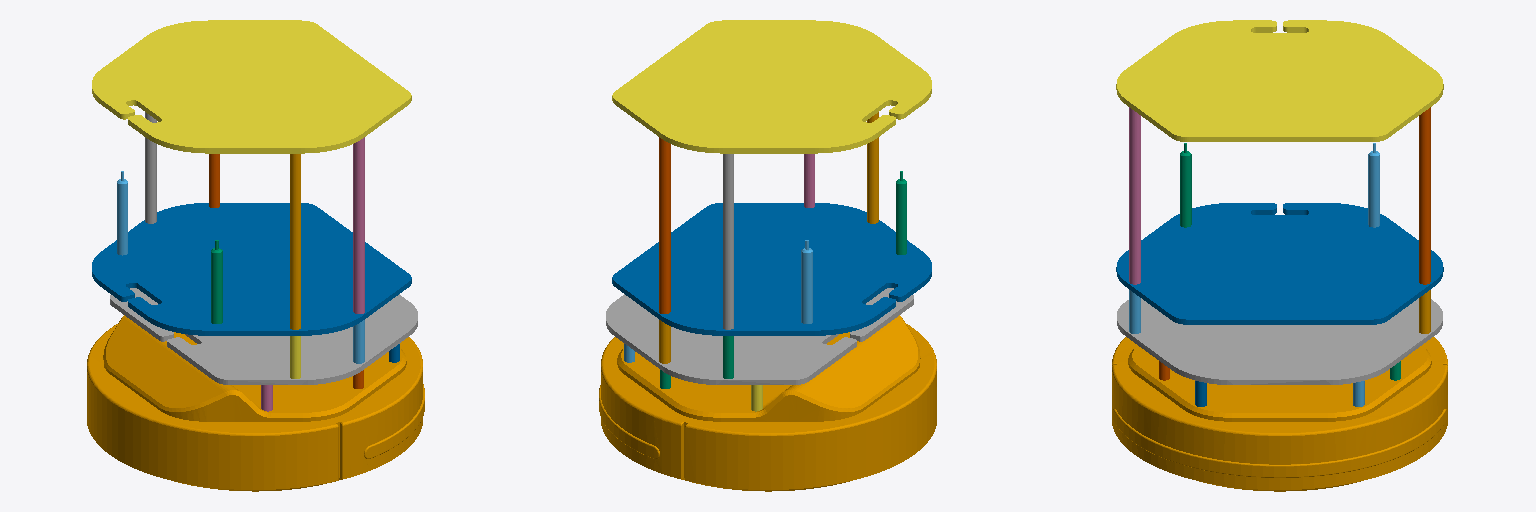
--- Render facts (derived) ---
Views: 3 orthographic renders of the robot side by side, from view 1: azimuth 30°, elevation 25°; view 2: azimuth 150°, elevation 25°; view 3: azimuth 270°, elevation 25°.
Model turtlebot with 34 links and 33 joints (2 continuous, 31 fixed), rooted at base_link, posed every joint at zero.
Links seen in each view (by area): view 1: base_link, plate_top_link, plate_middle_link, plate_bottom_link, pole_top_1_link, pole_top_3_link, pole_top_2_link, pole_kinect_1_link, pole_kinect_0_link, pole_top_0_link; view 2: base_link, plate_top_link, plate_middle_link, plate_bottom_link, pole_top_0_link, pole_top_2_link, pole_top_3_link, pole_kinect_0_link, pole_kinect_1_link, pole_top_1_link; view 3: base_link, plate_top_link, plate_middle_link, plate_bottom_link, pole_top_0_link, pole_top_1_link, pole_kinect_0_link, pole_kinect_1_link.
Link boxes in pixels (x1,y1,x2,y2): base_link: (87,315,424,491); plate_top_link: (92,20,411,153); plate_middle_link: (92,203,411,335); plate_bottom_link: (110,288,417,384); pole_top_1_link: (353,137,364,313); pole_top_3_link: (290,154,300,329); pole_top_2_link: (145,112,156,223); pole_kinect_1_link: (211,240,222,323); pole_kinect_0_link: (117,171,127,255); pole_top_0_link: (209,154,219,207); base_link: (599,315,936,491); plate_top_link: (612,20,931,153); plate_middle_link: (612,203,931,335); plate_bottom_link: (606,288,913,384); pole_top_0_link: (659,137,670,313); pole_top_2_link: (723,154,733,329); pole_top_3_link: (867,112,878,223); pole_kinect_0_link: (801,240,812,323); pole_kinect_1_link: (896,171,906,254); pole_top_1_link: (804,154,814,207); base_link: (1112,337,1447,491); plate_top_link: (1116,20,1443,141); plate_middle_link: (1116,203,1443,324); plate_bottom_link: (1117,298,1442,384); pole_top_0_link: (1419,107,1430,284); pole_top_1_link: (1129,107,1140,284); pole_kinect_0_link: (1368,143,1379,227); pole_kinect_1_link: (1180,143,1191,227).
Size in the robot's own frame: 0.3518 by 0.35 by 0.4098 metres.
Meshes: 10 distinct files referenced, 22 mesh visuals loaded (9 Collada DAE); not drawn: 1 (reference not matched to a file when rendering).

robot.urdf — turtlebot:
<?xml version="1.0" ?>
<!-- =================================================================================== -->
<!-- |    This document was autogenerated by xacro from robots/kobuki_hexagons_kinect.urdf.xacro | -->
<!-- |    EDITING THIS FILE BY HAND IS NOT RECOMMENDED                                 | -->
<!-- =================================================================================== -->
<!--
    - Base      : kobuki
    - Stacks    : hexagons
    - 3d Sensor : kinect
-->
<robot name="turtlebot" xmlns:controller="http://playerstage.sourceforge.net/gazebo/xmlschema/#controller" xmlns:interface="http://playerstage.sourceforge.net/gazebo/xmlschema/#interface" xmlns:sensor="http://playerstage.sourceforge.net/gazebo/xmlschema/#sensor" xmlns:xacro="http://ros.org/wiki/xacro">

  <link name="base_link">
    <visual>
      <geometry>
        <!-- new mesh -->
        <mesh filename="turtlebot/kobuki_description/meshes/main_body.dae"/>
      </geometry>
      <origin rpy="0 0 0" xyz="0.001 0 0.05199"/>
    </visual>
    <collision>
      <geometry>
        <cylinder length="0.10938" radius="0.176"/>
      </geometry>
      <origin rpy="0 0 0" xyz="0.0 0 0.05949"/>
    </collision>
    <inertial>
      <mass value="2.4"/>
      <!-- 2.4/2.6 kg for small/big battery pack -->
      <origin xyz="0 0 0"/>
      <inertia ixx="0.0001" ixy="0.0" ixz="0.0" iyy="0.0001" iyz="0.0" izz="0.0001"/>
    </inertial>
  </link>
  <joint name="wheel_left_joint" type="continuous">
    <parent link="base_link"/>
    <child link="wheel_left_link"/>
    <origin rpy="-1.57079632679 0 0" xyz="0.00 0.115 0.0250"/>
    <axis xyz="0 0 1"/>
  </joint>
  <link name="wheel_left_link">
    <visual>
      <geometry>
        <mesh filename="turtlebot/kobuki_description/meshes/wheel.dae"/>
      </geometry>
      <origin rpy="0 0 0" xyz="0 0 0"/>
    </visual>
    <collision>
      <geometry>
        <cylinder length="0.0206" radius="0.0352"/>
      </geometry>
      <origin rpy="0 0 0" xyz="0 0 0"/>
    </collision>
     <inertial>
      <mass value="0.1"/>
      <origin xyz="0 0 0"/>
      <inertia ixx="0.01" ixy="0.0" ixz="0.0" iyy="0.01" iyz="0.0" izz="0.01"/>
    </inertial>
     <contact>
      <lateral_friction value="1.0"/>
      <rolling_friction value="0.0"/>
      <stiffness value="30000"/>
      <damping value="1000"/>
    </contact>
  </link>
  <joint name="wheel_right_joint" type="continuous">
    <parent link="base_link"/>
    <child link="wheel_right_link"/>
    <origin rpy="-1.57079632679 0 0" xyz="0.00 -0.115 0.0250"/>
    <axis xyz="0 0 1"/>
  </joint>
  <link name="wheel_right_link">
    <visual>
      <geometry>
        <mesh filename="turtlebot/kobuki_description/meshes/wheel.dae"/>
      </geometry>
      <origin rpy="0 0 0" xyz="0 0 0"/>
    </visual>
    <collision>
      <geometry>
        <cylinder length="0.0206" radius="0.0350"/>
      </geometry>
      <origin rpy="0 0 0" xyz="0 0 0"/>
    </collision>
   <inertial>
      <mass value="0.1"/>
      <origin xyz="0 0 0"/>
      <inertia ixx="0.01" ixy="0.0" ixz="0.0" iyy="0.01" iyz="0.0" izz="0.01"/>
    </inertial>
   	<contact>
      <lateral_friction value="1.0"/>
      <rolling_friction value="0.0"/>
      <stiffness value="30000"/>
      <damping value="10000"/>
    </contact>

  </link>
  <joint name="caster_front_joint" type="fixed">
    <parent link="base_link"/>
    <child link="caster_front_link"/>
    <origin rpy="-1.57079632679 0 0" xyz="0.115 0.0 0.007"/>
  </joint>
  <link name="caster_front_link">
    <collision>
      <geometry>
        <cylinder length="0.0176" radius="0.017"/>
      </geometry>
      <origin rpy="0 0 0" xyz="0 0 0"/>
    </collision>
    <inertial>
      <mass value="0.01"/>
      <origin xyz="0 0 0"/>
      <inertia ixx="0.001" ixy="0.0" ixz="0.0" iyy="0.001" iyz="0.0" izz="0.001"/>
    </inertial>
    <contact>
      <lateral_friction value="0.0"/>
      <rolling_friction value="0.0"/>
      <stiffness value="30000"/>
      <damping value="10000"/>
    </contact>
  </link>
  <joint name="caster_back_joint" type="fixed">
    <parent link="base_link"/>
    <child link="caster_back_link"/>
    <origin rpy="-1.57079632679 0 0" xyz="-0.135 0.0 0.009"/>
  </joint>
  <link name="caster_back_link">
    <collision>
      <geometry>
        <cylinder length="0.0176" radius="0.017"/>
      </geometry>
      <origin rpy="0 0 0" xyz="0 0 0"/>
    </collision>
    <inertial>
      <mass value="0.01"/>
      <origin xyz="0 0 0"/>
      <inertia ixx="0.001" ixy="0.0" ixz="0.0" iyy="0.001" iyz="0.0" izz="0.001"/>
    </inertial>
    <contact>
      <lateral_friction value="0.0"/>
      <rolling_friction value="0.0"/>
      <stiffness value="30000"/>
      <damping value="1000"/>
    </contact>
  </link>
  <joint name="gyro_joint" type="fixed">
    <axis xyz="0 1 0"/>
    <origin rpy="0 0 0" xyz="0.056 0.062 0.0202"/>
    <parent link="base_link"/>
    <child link="gyro_link"/>
  </joint>
  <link name="gyro_link">
    <inertial>
      <mass value="0.001"/>
      <origin rpy="0 0 0" xyz="0 0 0"/>
      <inertia ixx="0.0001" ixy="0" ixz="0" iyy="0.000001" iyz="0" izz="0.0001"/>
    </inertial>
  </link>
  <joint name="cliff_sensor_left_joint" type="fixed">
    <origin rpy="0 1.57079632679 0" xyz="0.08734 0.13601 0.0214"/>
    <parent link="base_link"/>
    <child link="cliff_sensor_left_link"/>
  </joint>
  <link name="cliff_sensor_left_link">
    <inertial>
      <mass value="0.0001"/>
      <origin xyz="0 0 0"/>
      <inertia ixx="0.0001" ixy="0.0" ixz="0.0" iyy="0.0001" iyz="0.0" izz="0.0001"/>
    </inertial>
  </link>
  <joint name="cliff_sensor_right_joint" type="fixed">
    <origin rpy="0 1.57079632679 0" xyz="0.085 -0.13601 0.0214"/>
    <parent link="base_link"/>
    <child link="cliff_sensor_right_link"/>
  </joint>
  <link name="cliff_sensor_right_link">
    <inertial>
      <mass value="0.0001"/>
      <origin xyz="0 0 0"/>
      <inertia ixx="0.0001" ixy="0.0" ixz="0.0" iyy="0.0001" iyz="0.0" izz="0.0001"/>
    </inertial>
  </link>
  <joint name="cliff_sensor_front_joint" type="fixed">
    <origin rpy="0 1.57079632679 0" xyz="0.156 0.00 0.0214"/>
    <parent link="base_link"/>
    <child link="cliff_sensor_front_link"/>
  </joint>
  <link name="cliff_sensor_front_link">
    <inertial>
      <mass value="0.0001"/>
      <origin xyz="0 0 0"/>
      <inertia ixx="0.0001" ixy="0.0" ixz="0.0" iyy="0.0001" iyz="0.0" izz="0.0001"/>
    </inertial>
  </link>
  <gazebo>
    <controller:gazebo_ros_kobuki name="kobuki_controller" plugin="libgazebo_ros_kobuki.so">
      <left_wheel_joint_name>wheel_left_joint</left_wheel_joint_name>
      <right_wheel_joint_name>wheel_right_joint</right_wheel_joint_name>
      <wheel_separation>.230</wheel_separation>
      <wheel_diameter>0.070</wheel_diameter>
      <torque>1.0</torque>
      <velocity_command_timeout>0.6</velocity_command_timeout>
      <cliff_sensor_left_name>cliff_sensor_left</cliff_sensor_left_name>
      <cliff_sensor_front_name>cliff_sensor_front</cliff_sensor_front_name>
      <cliff_sensor_right_name>cliff_sensor_right</cliff_sensor_right_name>
      <cliff_detection_threshold>0.04</cliff_detection_threshold>
      <bumper_name>bumpers</bumper_name>
      <base_collision_model_link>base_link</base_collision_model_link>
    </controller:gazebo_ros_kobuki>
  </gazebo>
  <gazebo reference="wheel_left_link">
    <mu1 value="10"/>
    <mu2 value="10"/>
    <kp value="100000000.0"/>
    <kd value="10000.0"/>
  </gazebo>
  <gazebo reference="wheel_right_link">
    <mu1 value="10"/>
    <mu2 value="10"/>
    <kp value="100000000.0"/>
    <kd value="10000.0"/>
  </gazebo>
  <gazebo reference="caster_front_link">
    <mu1 value="0"/>
    <mu2 value="0"/>
    <kp value="100000000.0"/>
    <kd value="10000.0"/>
  </gazebo>
  <gazebo reference="caster_back_link">
    <mu1 value="0"/>
    <mu2 value="0"/>
    <kp value="100000000.0"/>
    <kd value="10000.0"/>
  </gazebo>
  <gazebo reference="base_link">
    <sensor:contact name="bumpers">
      <geom>base_footprint_geom_base_link</geom>
      <topic>bumpers</topic>
      <alwaysOn>true</alwaysOn>
      <updateRate>50</updateRate>
    </sensor:contact>
  </gazebo>
  <gazebo reference="cliff_sensor_left_link">
    <sensor:ray name="cliff_sensor_left">
      <alwaysOn>true</alwaysOn>
      <updateRate>50</updateRate>
      <rayCount>50</rayCount>
      <rangeCount>1</rangeCount>
      <resRange>1.0</resRange>
      <minAngle>-0.04361</minAngle>
      <maxAngle>0.04361</maxAngle>
      <minRange>0.01</minRange>
      <maxRange>0.15</maxRange>
      <displayRays>true</displayRays>
    </sensor:ray>
  </gazebo>
  <gazebo reference="cliff_sensor_right_link">
    <sensor:ray name="cliff_sensor_right">
      <alwaysOn>true</alwaysOn>
      <updateRate>50</updateRate>
      <rayCount>50</rayCount>
      <rangeCount>1</rangeCount>
      <resRange>1.0</resRange>
      <minAngle>-2.5</minAngle>
      <maxAngle>2.5</maxAngle>
      <minRange>0.01</minRange>
      <maxRange>0.15</maxRange>
      <displayRays>true</displayRays>
    </sensor:ray>
  </gazebo>
  <gazebo reference="cliff_sensor_front_link">
    <sensor:ray name="cliff_sensor_front">
      <alwaysOn>true</alwaysOn>
      <updateRate>50</updateRate>
      <rayCount>50</rayCount>
      <rangeCount>1</rangeCount>
      <resRange>1.0</resRange>
      <minAngle>-2.5</minAngle>
      <maxAngle>2.5</maxAngle>
      <minRange>0.01</minRange>
      <maxRange>0.15</maxRange>
      <displayRays>true</displayRays>
    </sensor:ray>
  </gazebo>
  <gazebo>
    <controller:gazebo_ros_imu name="imu_controller" plugin="libgazebo_ros_imu.so">
      <alwaysOn>true</alwaysOn>
      <updateRate>50</updateRate>
      <bodyName>gyro_link</bodyName>
      <topicName>/mobile_base/sensors/imu_data</topicName>
      <gaussianNoise>2.89e-06</gaussianNoise>
      <xyzOffsets>0 0 0</xyzOffsets>
      <rpyOffsets>0 0 0</rpyOffsets>
      <interface:position name="gyro_link"/>
    </controller:gazebo_ros_imu>
  </gazebo>
  <joint name="pole_bottom_0_joint" type="fixed">
    <origin rpy="0 0 0" xyz="0.12 0.082 0.1028"/>
    <parent link="base_link"/>
    <child link="pole_bottom_0_link"/>
  </joint>
  <link name="pole_bottom_0_link">
    <visual>
      <origin rpy="0 0 0" xyz="0 0 0"/>
      <geometry>
        <mesh filename="turtlebot/turtlebot_description/meshes/stacks/hexagons/pole_bottom.dae"/>
      </geometry>
    </visual>
    <collision>
      <origin rpy="0 0 0" xyz="0 0 0"/>
      <geometry>
        <cylinder length="0.0492" radius=".006"/>
      </geometry>
    </collision>
    <inertial>
      <mass value="0.001"/>
      <origin rpy="0 0 0" xyz="0 0 0"/>
      <inertia ixx="0.0001" ixy="0.0" ixz="0.0" iyy="0.0001" iyz="0.0" izz="0.0001"/>
    </inertial>
  </link>
  <joint name="pole_bottom_1_joint" type="fixed">
    <origin rpy="0 0 0" xyz="0.055 0.12 0.1028"/>
    <parent link="base_link"/>
    <child link="pole_bottom_1_link"/>
  </joint>
  <link name="pole_bottom_1_link">
    <visual>
      <origin rpy="0 0 0" xyz="0 0 0"/>
      <geometry>
        <mesh filename="turtlebot/turtlebot_description/meshes/stacks/hexagons/pole_bottom.dae"/>
      </geometry>
    </visual>
    <collision>
      <origin rpy="0 0 0" xyz="0 0 0"/>
      <geometry>
        <cylinder length="0.0492" radius=".006"/>
      </geometry>
    </collision>
    <inertial>
      <mass value="0.001"/>
      <origin rpy="0 0 0" xyz="0 0 0"/>
      <inertia ixx="0.0001" ixy="0.0" ixz="0.0" iyy="0.0001" iyz="0.0" izz="0.0001"/>
    </inertial>
  </link>
  <joint name="pole_bottom_2_joint" type="fixed">
    <origin rpy="0 0 0" xyz="-0.055 0.12 0.1028"/>
    <parent link="base_link"/>
    <child link="pole_bottom_2_link"/>
  </joint>
  <link name="pole_bottom_2_link">
    <visual>
      <origin rpy="0 0 0" xyz="0 0 0"/>
      <geometry>
        <mesh filename="turtlebot/turtlebot_description/meshes/stacks/hexagons/pole_bottom.dae"/>
      </geometry>
    </visual>
    <collision>
      <origin rpy="0 0 0" xyz="0 0 0"/>
      <geometry>
        <cylinder length="0.0492" radius=".006"/>
      </geometry>
    </collision>
    <inertial>
      <mass value="0.001"/>
      <origin rpy="0 0 0" xyz="0 0 0"/>
      <inertia ixx="0.0001" ixy="0.0" ixz="0.0" iyy="0.0001" iyz="0.0" izz="0.0001"/>
    </inertial>
  </link>
  <joint name="pole_bottom_3_joint" type="fixed">
    <origin rpy="0 0 0" xyz="0.12 -0.082 0.1028"/>
    <parent link="base_link"/>
    <child link="pole_bottom_3_link"/>
  </joint>
  <link name="pole_bottom_3_link">
    <visual>
      <origin rpy="0 0 0" xyz="0 0 0"/>
      <geometry>
        <mesh filename="turtlebot/turtlebot_description/meshes/stacks/hexagons/pole_bottom.dae"/>
      </geometry>
    </visual>
    <collision>
      <origin rpy="0 0 0" xyz="0 0 0"/>
      <geometry>
        <cylinder length="0.0492" radius=".006"/>
      </geometry>
    </collision>
    <inertial>
      <mass value="0.001"/>
      <origin rpy="0 0 0" xyz="0 0 0"/>
      <inertia ixx="0.0001" ixy="0.0" ixz="0.0" iyy="0.0001" iyz="0.0" izz="0.0001"/>
    </inertial>
  </link>
  <joint name="pole_bottom_4_joint" type="fixed">
    <origin rpy="0 0 0" xyz="0.055 -0.12 0.1028"/>
    <parent link="base_link"/>
    <child link="pole_bottom_4_link"/>
  </joint>
  <link name="pole_bottom_4_link">
    <visual>
      <origin rpy="0 0 0" xyz="0 0 0"/>
      <geometry>
        <mesh filename="turtlebot/turtlebot_description/meshes/stacks/hexagons/pole_bottom.dae"/>
      </geometry>
    </visual>
    <collision>
      <origin rpy="0 0 0" xyz="0 0 0"/>
      <geometry>
        <cylinder length="0.0492" radius=".006"/>
      </geometry>
    </collision>
    <inertial>
      <mass value="0.001"/>
      <origin rpy="0 0 0" xyz="0 0 0"/>
      <inertia ixx="0.0001" ixy="0.0" ixz="0.0" iyy="0.0001" iyz="0.0" izz="0.0001"/>
    </inertial>
  </link>
  <joint name="pole_bottom_5_joint" type="fixed">
    <origin rpy="0 0 0" xyz="-0.055 -0.12 0.1028"/>
    <parent link="base_link"/>
    <child link="pole_bottom_5_link"/>
  </joint>
  <link name="pole_bottom_5_link">
    <visual>
      <origin rpy="0 0 0" xyz="0 0 0"/>
      <geometry>
        <mesh filename="turtlebot/turtlebot_description/meshes/stacks/hexagons/pole_bottom.dae"/>
      </geometry>
    </visual>
    <collision>
      <origin rpy="0 0 0" xyz="0 0 0"/>
      <geometry>
        <cylinder length="0.0492" radius=".006"/>
      </geometry>
    </collision>
    <inertial>
      <mass value="0.001"/>
      <origin rpy="0 0 0" xyz="0 0 0"/>
      <inertia ixx="0.0001" ixy="0.0" ixz="0.0" iyy="0.0001" iyz="0.0" izz="0.0001"/>
    </inertial>
  </link>
  <joint name="plate_bottom_joint" type="fixed">
    <origin rpy="0 0 0" xyz="0.02364 0.0 0.1306"/>
    <parent link="base_link"/>
    <child link="plate_bottom_link"/>
  </joint>
  <link name="plate_bottom_link">
    <visual>
      <origin rpy="0 0 0" xyz="0 0 0"/>
      <geometry>
        <mesh filename="turtlebot/turtlebot_description/meshes/stacks/hexagons/plate_bottom.dae"/>
      </geometry>
    </visual>
    <collision>
      <origin rpy="0 0 0" xyz="0 0 0"/>
      <geometry>
        <box size="0.26727 0.340 0.006"/>
      </geometry>
    </collision>
    <inertial>
      <mass value="0.01"/>
      <origin xyz="0 0 0"/>
      <inertia ixx="0.01" ixy="0.0" ixz="0.0" iyy="0.01" iyz="0.0" izz="0.01"/>
    </inertial>
  </link>
  <joint name="pole_middle_0_joint" type="fixed">
    <origin rpy="0 0 0" xyz="0.0381 0.1505 0.164"/>
    <parent link="base_link"/>
    <child link="pole_middle_0_link"/>
  </joint>
  <link name="pole_middle_0_link">
    <visual>
      <origin rpy="0 3.14159265359 0" xyz="0 0 0"/>
      <geometry>
        <mesh filename="turtlebot/turtlebot_description/meshes/stacks/hexagons/pole_middle.dae"/>
      </geometry>
    </visual>
    <collision>
      <origin rpy="0 0 0" xyz="0 0 0"/>
      <geometry>
        <cylinder length="0.0608" radius=".006"/>
      </geometry>
    </collision>
    <inertial>
      <mass value="0.001"/>
      <origin xyz="0 0 0"/>
      <inertia ixx="0.0001" ixy="0.0" ixz="0.0" iyy="0.0001" iyz="0.0" izz="0.0001"/>
    </inertial>
  </link>
  <joint name="pole_middle_1_joint" type="fixed">
    <origin rpy="0 0 0" xyz="0.0381 -0.1505 0.164"/>
    <parent link="base_link"/>
    <child link="pole_middle_1_link"/>
  </joint>
  <link name="pole_middle_1_link">
    <visual>
      <origin rpy="0 3.14159265359 0" xyz="0 0 0"/>
      <geometry>
        <mesh filename="turtlebot/turtlebot_description/meshes/stacks/hexagons/pole_middle.dae"/>
      </geometry>
    </visual>
    <collision>
      <origin rpy="0 0 0" xyz="0 0 0"/>
      <geometry>
        <cylinder length="0.0608" radius=".006"/>
      </geometry>
    </collision>
    <inertial>
      <mass value="0.001"/>
      <origin xyz="0 0 0"/>
      <inertia ixx="0.0001" ixy="0.0" ixz="0.0" iyy="0.0001" iyz="0.0" izz="0.0001"/>
    </inertial>
  </link>
  <joint name="pole_middle_2_joint" type="fixed">
    <origin rpy="0 0 0" xyz="-0.0381 0.1505 0.164"/>
    <parent link="base_link"/>
    <child link="pole_middle_2_link"/>
  </joint>
  <link name="pole_middle_2_link">
    <visual>
      <origin rpy="0 3.14159265359 0" xyz="0 0 0"/>
      <geometry>
        <mesh filename="turtlebot/turtlebot_description/meshes/stacks/hexagons/pole_middle.dae"/>
      </geometry>
    </visual>
    <collision>
      <origin rpy="0 0 0" xyz="0 0 0"/>
      <geometry>
        <cylinder length="0.0608" radius=".006"/>
      </geometry>
    </collision>
    <inertial>
      <mass value="0.001"/>
      <origin xyz="0 0 0"/>
      <inertia ixx="0.0001" ixy="0.0" ixz="0.0" iyy="0.0001" iyz="0.0" izz="0.0001"/>
    </inertial>
  </link>
  <joint name="pole_middle_3_joint" type="fixed">
    <origin rpy="0 0 0" xyz="-0.0381 -0.1505 0.164"/>
    <parent link="base_link"/>
    <child link="pole_middle_3_link"/>
  </joint>
  <link name="pole_middle_3_link">
    <visual>
      <origin rpy="0 3.14159265359 0" xyz="0 0 0"/>
      <geometry>
        <mesh filename="turtlebot/turtlebot_description/meshes/stacks/hexagons/pole_middle.dae"/>
      </geometry>
    </visual>
    <collision>
      <origin rpy="0 0 0" xyz="0 0 0"/>
      <geometry>
        <cylinder length="0.0608" radius=".006"/>
      </geometry>
    </collision>
    <inertial>
      <mass value="0.001"/>
      <origin xyz="0 0 0"/>
      <inertia ixx="0.0001" ixy="0.0" ixz="0.0" iyy="0.0001" iyz="0.0" izz="0.0001"/>
    </inertial>
  </link>
  <joint name="plate_middle_joint" type="fixed">
    <origin rpy="0 0 0" xyz="-0.01364 0.0 0.1874"/>
    <parent link="base_link"/>
    <child link="plate_middle_link"/>
  </joint>
  <link name="plate_middle_link">
    <visual>
      <origin rpy="0 0 0" xyz="0 0 0"/>
      <geometry>
        <mesh filename="turtlebot/turtlebot_description/meshes/stacks/hexagons/plate_middle.dae"/>
      </geometry>
    </visual>
    <collision>
      <origin rpy="0 0 0" xyz="0.0 0.0 0.0"/>
      <geometry>
        <box size="0.28727 0.340 0.006"/>
      </geometry>
    </collision>
    <inertial>
      <mass value="0.01"/>
      <origin xyz="0 0 0"/>
      <inertia ixx="0.01" ixy="0.0" ixz="0.0" iyy="0.01" iyz="0.0" izz="0.01"/>
    </inertial>
  </link>
  <joint name="pole_top_0_joint" type="fixed">
    <origin rpy="0 0 0" xyz="0.0381 0.1505 0.292"/>
    <parent link="base_link"/>
    <child link="pole_top_0_link"/>
  </joint>
  <link name="pole_top_0_link">
    <visual>
      <origin rpy="0 0 0" xyz=" 0 0 0"/>
      <geometry>
        <mesh filename="turtlebot/turtlebot_description/meshes/stacks/hexagons/pole_top.dae"/>
      </geometry>
    </visual>
    <collision>
      <origin rpy="0 0 0" xyz="0 0 0"/>
      <geometry>
        <cylinder length="0.2032" radius=".006"/>
      </geometry>
    </collision>
    <inertial>
      <mass value="0.001"/>
      <origin xyz="0 0 0"/>
      <inertia ixx="0.0001" ixy="0.0" ixz="0.0" iyy="0.0001" iyz="0.0" izz="0.0001"/>
    </inertial>
  </link>
  <joint name="pole_top_1_joint" type="fixed">
    <origin rpy="0 0 0" xyz="0.0381 -0.1505 0.292"/>
    <parent link="base_link"/>
    <child link="pole_top_1_link"/>
  </joint>
  <link name="pole_top_1_link">
    <visual>
      <origin rpy="0 0 0" xyz=" 0 0 0"/>
      <geometry>
        <mesh filename="turtlebot/turtlebot_description/meshes/stacks/hexagons/pole_top.dae"/>
      </geometry>
    </visual>
    <collision>
      <origin rpy="0 0 0" xyz="0 0 0"/>
      <geometry>
        <cylinder length="0.2032" radius=".006"/>
      </geometry>
    </collision>
    <inertial>
      <mass value="0.001"/>
      <origin xyz="0 0 0"/>
      <inertia ixx="0.0001" ixy="0.0" ixz="0.0" iyy="0.0001" iyz="0.0" izz="0.0001"/>
    </inertial>
  </link>
  <joint name="pole_top_2_joint" type="fixed">
    <origin rpy="0 0 0" xyz="-0.0381 0.1505 0.292"/>
    <parent link="base_link"/>
    <child link="pole_top_2_link"/>
  </joint>
  <link name="pole_top_2_link">
    <visual>
      <origin rpy="0 0 0" xyz=" 0 0 0"/>
      <geometry>
        <mesh filename="turtlebot/turtlebot_description/meshes/stacks/hexagons/pole_top.dae"/>
      </geometry>
    </visual>
    <collision>
      <origin rpy="0 0 0" xyz="0 0 0"/>
      <geometry>
        <cylinder length="0.2032" radius=".006"/>
      </geometry>
    </collision>
    <inertial>
      <mass value="0.001"/>
      <origin xyz="0 0 0"/>
      <inertia ixx="0.0001" ixy="0.0" ixz="0.0" iyy="0.0001" iyz="0.0" izz="0.0001"/>
    </inertial>
  </link>
  <joint name="pole_top_3_joint" type="fixed">
    <origin rpy="0 0 0" xyz="-0.0381 -0.1505 0.292"/>
    <parent link="base_link"/>
    <child link="pole_top_3_link"/>
  </joint>
  <link name="pole_top_3_link">
    <visual>
      <origin rpy="0 0 0" xyz=" 0 0 0"/>
      <geometry>
        <mesh filename="turtlebot/turtlebot_description/meshes/stacks/hexagons/pole_top.dae"/>
      </geometry>
    </visual>
    <collision>
      <origin rpy="0 0 0" xyz="0 0 0"/>
      <geometry>
        <cylinder length="0.2032" radius=".006"/>
      </geometry>
    </collision>
    <inertial>
      <mass value="0.001"/>
      <origin xyz="0 0 0"/>
      <inertia ixx="0.0001" ixy="0.0" ixz="0.0" iyy="0.0001" iyz="0.0" izz="0.0001"/>
    </inertial>
  </link>
  <joint name="pole_kinect_0_joint" type="fixed">
    <origin rpy="0 0 0" xyz="-0.1024 0.098 0.2372"/>
    <parent link="base_link"/>
    <child link="pole_kinect_0_link"/>
  </joint>
  <link name="pole_kinect_0_link">
    <visual>
      <origin rpy="0 0 0" xyz="0 0 0"/>
      <!--         <origin xyz="0 0 0" rpy="${-M_PI/2} ${M_PI} 0"/> -->
      <geometry>
        <mesh filename="turtlebot/turtlebot_description/meshes/stacks/hexagons/pole_kinect.dae"/>
      </geometry>
    </visual>
    <collision>
      <origin rpy="0 0 0" xyz="0 0 0"/>
      <geometry>
        <cylinder length="0.0936" radius="0.006"/>
      </geometry>
    </collision>
    <inertial>
      <mass value="0.001"/>
      <origin xyz="0 0 0"/>
      <inertia ixx="0.0001" ixy="0.0" ixz="0.0" iyy="0.0001" iyz="0.0" izz="0.0001"/>
    </inertial>
  </link>
  <joint name="pole_kinect_1_joint" type="fixed">
    <origin rpy="0 0 0" xyz="-0.1024 -0.098 0.2372"/>
    <parent link="base_link"/>
    <child link="pole_kinect_1_link"/>
  </joint>
  <link name="pole_kinect_1_link">
    <visual>
      <origin rpy="0 0 0" xyz="0 0 0"/>
      <!--         <origin xyz="0 0 0" rpy="${-M_PI/2} ${M_PI} 0"/> -->
      <geometry>
        <mesh filename="turtlebot/turtlebot_description/meshes/stacks/hexagons/pole_kinect.dae"/>
      </geometry>
    </visual>
    <collision>
      <origin rpy="0 0 0" xyz="0 0 0"/>
      <geometry>
        <cylinder length="0.0936" radius="0.006"/>
      </geometry>
    </collision>
    <inertial>
      <mass value="0.001"/>
      <origin xyz="0 0 0"/>
      <inertia ixx="0.0001" ixy="0.0" ixz="0.0" iyy="0.0001" iyz="0.0" izz="0.0001"/>
    </inertial>
  </link>
  <joint name="plate_top_joint" type="fixed">
    <origin rpy="0 0 0" xyz="-0.01364 0.0  0.3966"/>
    <parent link="base_link"/>
    <child link="plate_top_link"/>
  </joint>
  <link name="plate_top_link">
    <visual>
      <origin rpy="0 0 0" xyz="0 0 0"/>
      <geometry>
        <mesh filename="turtlebot/turtlebot_description/meshes/stacks/hexagons/plate_top.dae"/>
      </geometry>
    </visual>
    <collision>
      <origin rpy="0 0 0" xyz="0 0 0"/>
      <geometry>
        <box size="0.28727 0.340 0.006"/>
      </geometry>
    </collision>
    <inertial>
      <mass value="0.01"/>
      <origin xyz="0 0 0"/>
      <inertia ixx="0.01" ixy="0.0" ixz="0.0" iyy="0.01" iyz="0.0" izz="0.01"/>
    </inertial>
  </link>
  <joint name="camera_rgb_joint" type="fixed">
    <origin rpy="0 0 0" xyz="-0.087 -0.0125 1.000"/>
    <parent link="base_link"/>
    <child link="camera_rgb_frame"/>
  </joint>
  <link name="camera_rgb_frame">
    <inertial>
      <mass value="0.001"/>
      <origin xyz="0 0 0"/>
      <inertia ixx="0.0001" ixy="0.0" ixz="0.0" iyy="0.0001" iyz="0.0" izz="0.0001"/>
    </inertial>
  </link>
  <joint name="camera_rgb_optical_joint" type="fixed">
    <origin rpy="-1.57079632679 0 -1.57079632679" xyz="0 0 0"/>
    <parent link="camera_rgb_frame"/>
    <child link="camera_rgb_optical_frame"/>
  </joint>
  <link name="camera_rgb_optical_frame">
    <inertial>
      <mass value="0.001"/>
      <origin xyz="0 0 0"/>
      <inertia ixx="0.0001" ixy="0.0" ixz="0.0" iyy="0.0001" iyz="0.0" izz="0.0001"/>
    </inertial>
  </link>
  <joint name="camera_joint" type="fixed">
    <origin rpy="0 0 0" xyz="-0.031 0.0125 -0.016"/>
    <parent link="camera_rgb_frame"/>
    <child link="kinect_camera"/>
  </joint>
  <link name="kinect_camera">
    <visual>
      <origin rpy="0 0 1.57079632679" xyz="0 0 0"/>
      <geometry>
        <mesh filename="turtlebot/turtlebot_description/meshes/sensors/kinect.dae"/>
      </geometry>
    </visual>
    <collision>
      <origin rpy="0 0 0" xyz="-0.0315 0.0 -0.017"/>
      <geometry>
        <box size="0.07271 0.27794 0.073"/>
      </geometry>
    </collision>
    <inertial>
      <mass value="0.001"/>
      <origin xyz="0 0 0"/>
      <inertia ixx="0.0001" ixy="0.0" ixz="0.0" iyy="0.0001" iyz="0.0" izz="0.0001"/>
    </inertial>
  </link>
  <joint name="camera_depth_joint" type="fixed">
    <origin rpy="0 0 0" xyz="0 0.025 0"/>
    <parent link="camera_rgb_frame"/>
    <child link="camera_depth_frame"/>
  </joint>
  <link name="camera_depth_frame">
    <inertial>
      <mass value="0.001"/>
      <origin xyz="0 0 0"/>
      <inertia ixx="0.0001" ixy="0.0" ixz="0.0" iyy="0.0001" iyz="0.0" izz="0.0001"/>
    </inertial>
  </link>
  <joint name="camera_depth_optical_joint" type="fixed">
    <origin rpy="-1.57079632679 0 -1.57079632679" xyz="0 0 0"/>
    <parent link="camera_depth_frame"/>
    <child link="camera_depth_optical_frame"/>
  </joint>
  <link name="camera_depth_optical_frame">
    <inertial>
      <mass value="0.001"/>
      <origin xyz="0 0 0"/>
      <inertia ixx="0.0001" ixy="0.0" ixz="0.0" iyy="0.0001" iyz="0.0" izz="0.0001"/>
    </inertial>
  </link>

   <link name="eyes">
      <inertial>
      <mass value="0.001"/>
      <origin xyz="0 0 0"/>
      <inertia ixx="0.0001" ixy="0.0" ixz="0.0" iyy="0.0001" iyz="0.0" izz="0.0001"/>
    </inertial>
  </link>
  <joint name="eye_joint" type="fixed">
   <origin rpy="1.57079632679 0 -1.57079632679" xyz="0 0.025 0"/>
    <parent link="kinect_camera"/>
    <child link="eyes"/>
  </joint>

</robot>
